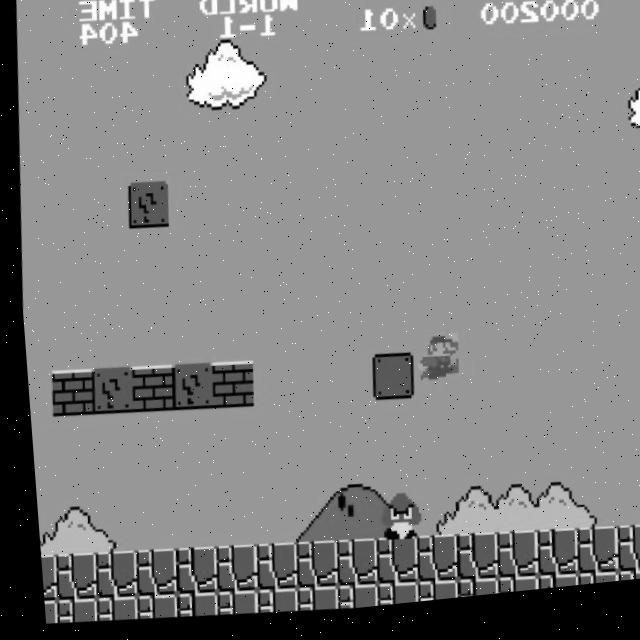1- brick_block: (204, 363, 250, 415), (123, 366, 169, 417), (43, 368, 89, 419)
11- little_mario: (409, 338, 457, 391)
13- mystery_block: (83, 366, 129, 418), (122, 182, 168, 233), (164, 364, 209, 416)
17- undestructible_block: (565, 536, 611, 588), (525, 537, 571, 589), (325, 543, 371, 595), (205, 546, 251, 598), (84, 550, 130, 602), (485, 539, 531, 590), (445, 540, 491, 591), (405, 541, 451, 592), (365, 542, 411, 593), (244, 546, 290, 597), (165, 548, 211, 599), (44, 552, 90, 603), (285, 544, 330, 596), (125, 549, 170, 600), (605, 535, 640, 586), (286, 590, 330, 619), (246, 591, 290, 620), (206, 592, 249, 621), (166, 593, 209, 622), (46, 597, 89, 626), (126, 595, 169, 623), (86, 596, 129, 624), (326, 589, 369, 616), (366, 588, 409, 613), (406, 586, 449, 610), (446, 585, 489, 607), (32, 553, 50, 601), (486, 584, 529, 603), (526, 583, 569, 600), (567, 581, 609, 597), (607, 580, 640, 593), (35, 599, 49, 624)
3- empty_block: (364, 359, 410, 410)
8- goomba: (370, 496, 419, 550)
